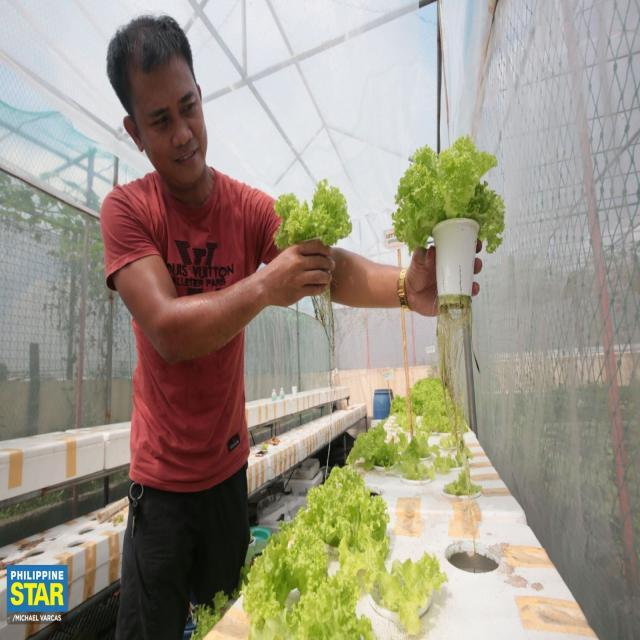Lettuce-Ready-to-Harvest: (387, 134, 511, 257), (230, 520, 336, 625), (296, 466, 393, 541), (270, 179, 360, 251), (285, 585, 369, 640), (343, 433, 404, 470)
